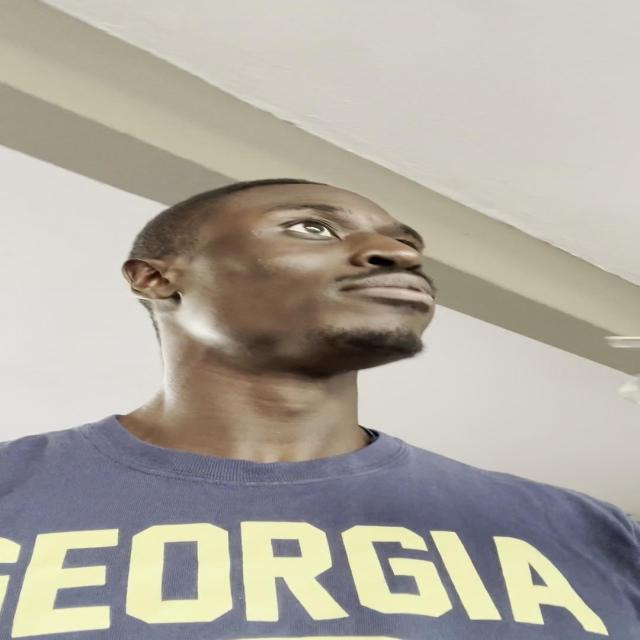NO-Mask: (175, 181, 436, 362)
